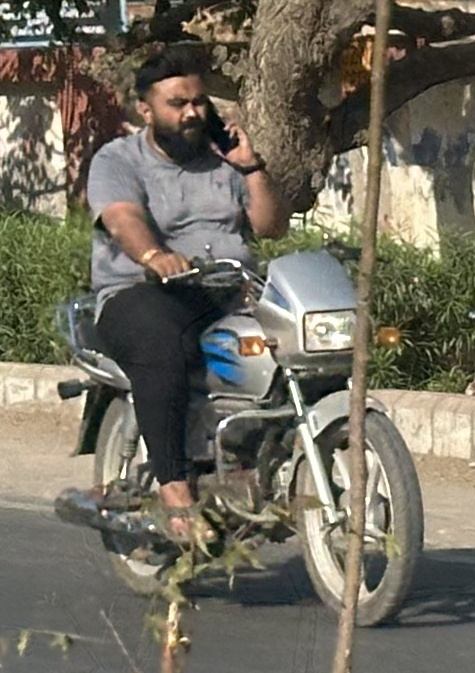BikeWithRider: (40, 34, 435, 638)
NoHelmet: (122, 38, 236, 156)
